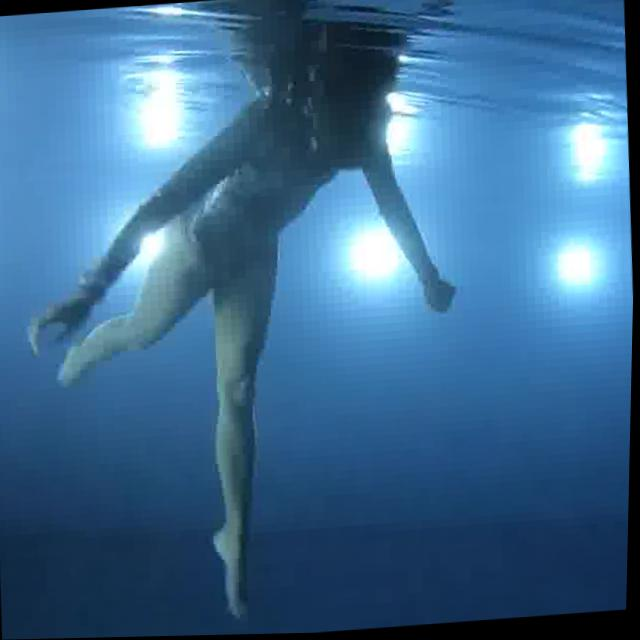human: (7, 9, 489, 640)
